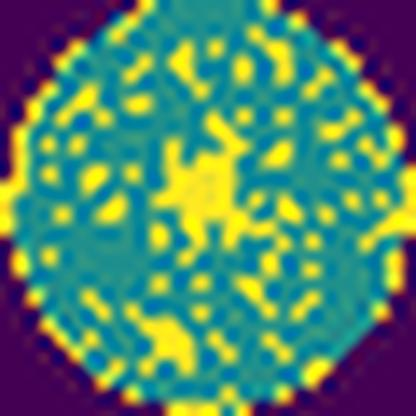Center: (162, 116, 251, 250)
